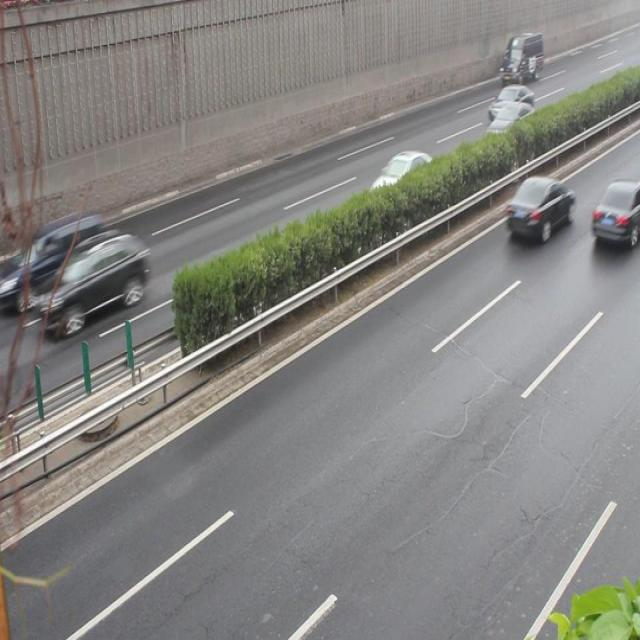car: (47, 228, 146, 324), (504, 173, 572, 241), (368, 149, 434, 216), (589, 178, 639, 240), (482, 101, 535, 153), (486, 84, 533, 119)
